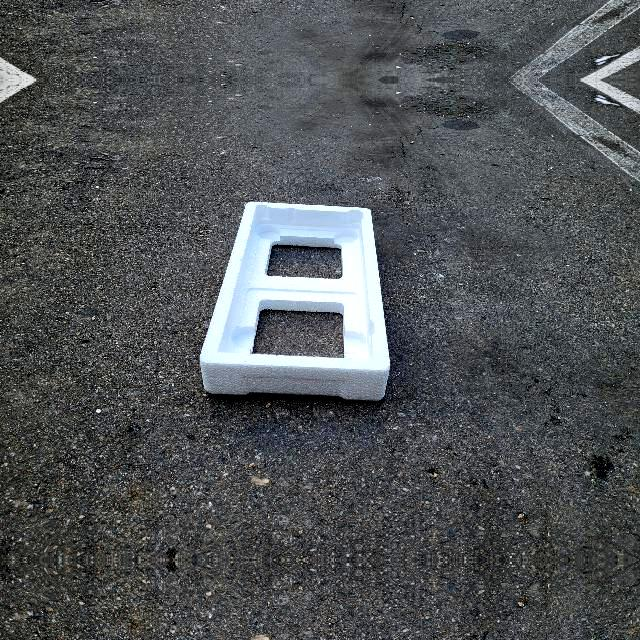Styrofoam: (198, 202, 392, 400), (200, 202, 390, 401)
